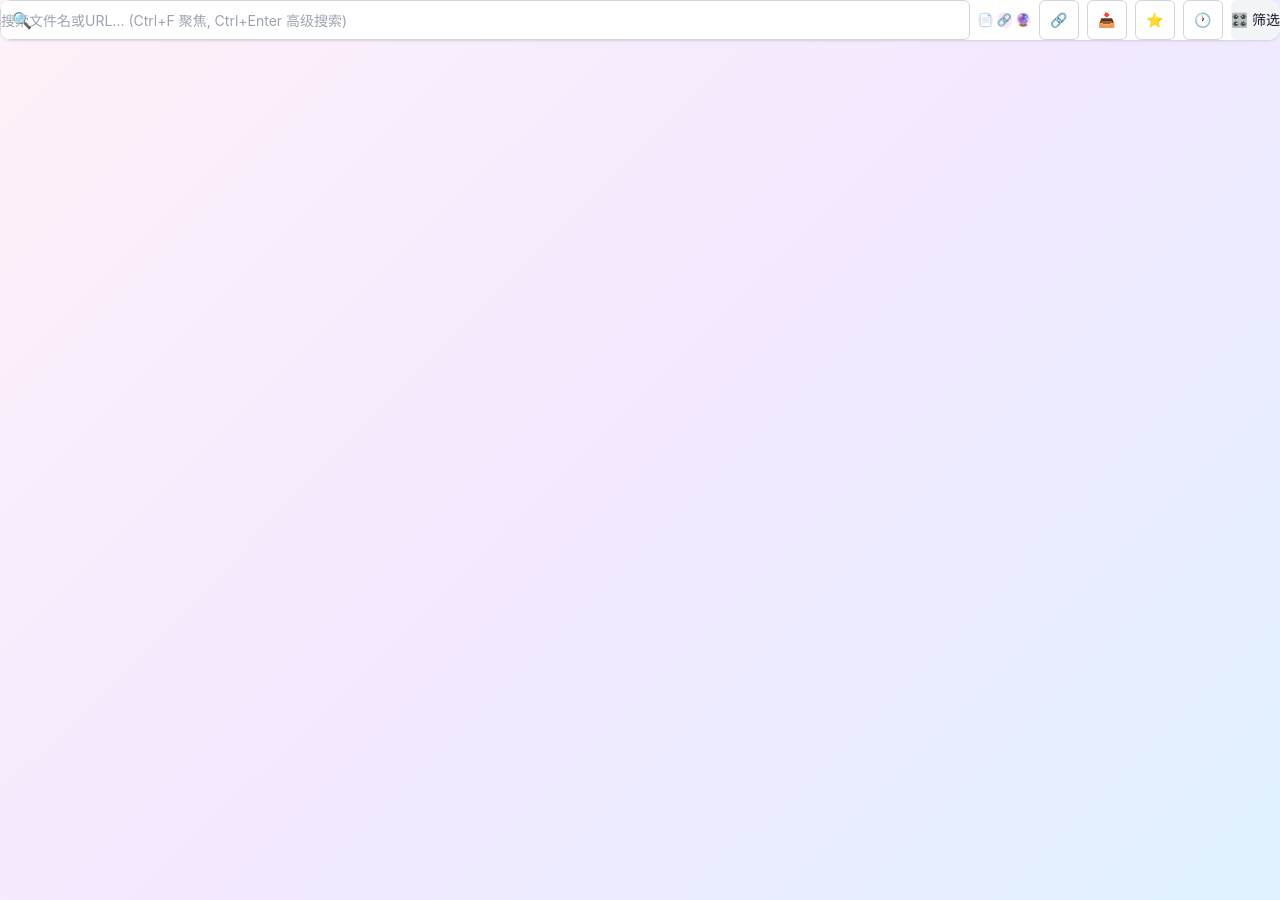
SearchFilter Component › should change category filter
The image size is (1280, 900).
What coordinates should you click on to do the following:
click the button "🎛️ 筛选"
I would click on:
 (1255, 20)
Its box is 1231,0 -> 1279,40.
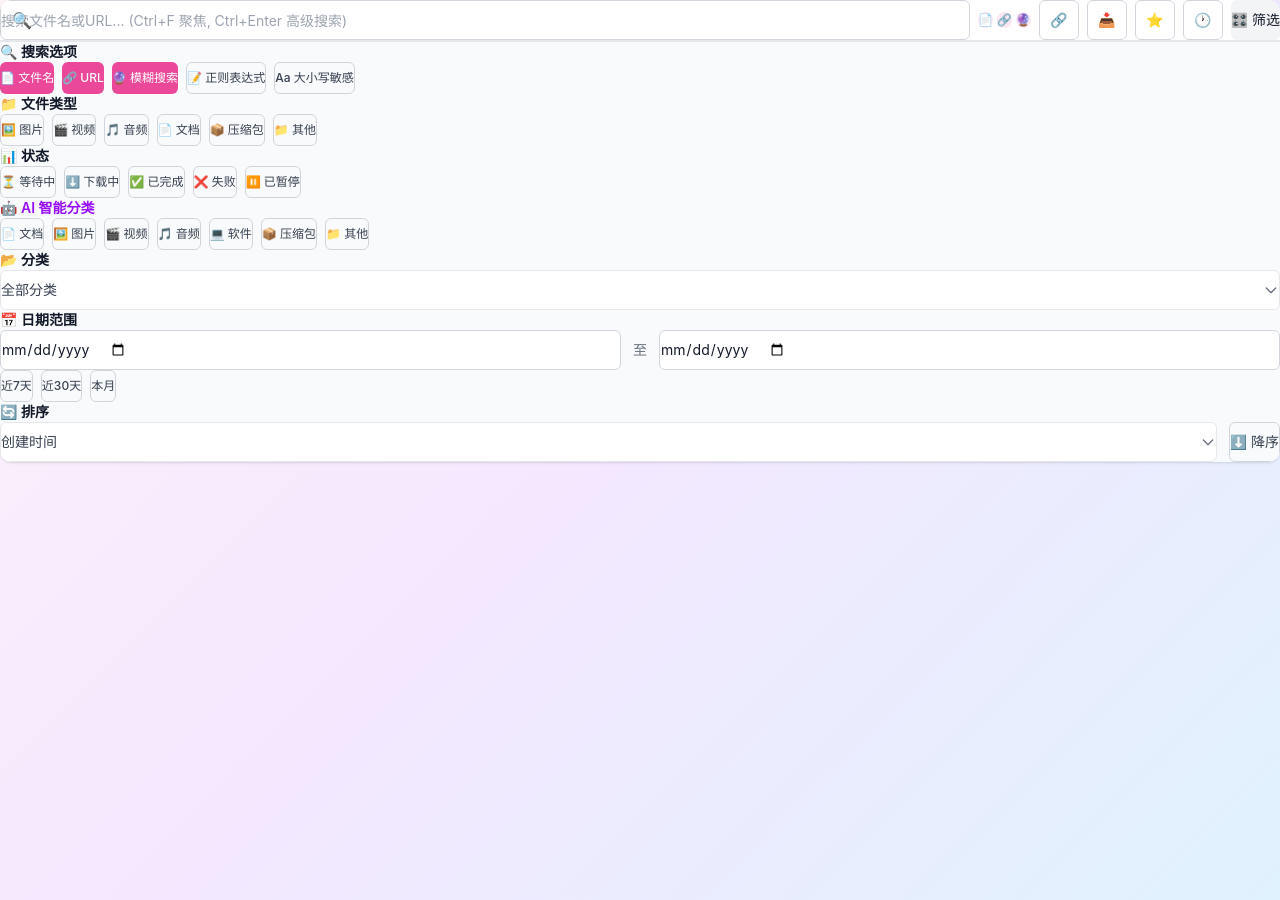
What coordinates should you click on to do the following:
click the dropdown labelled "全部分类"
I would click on:
 (29, 290)
Its box is 0,270 -> 1279,310.
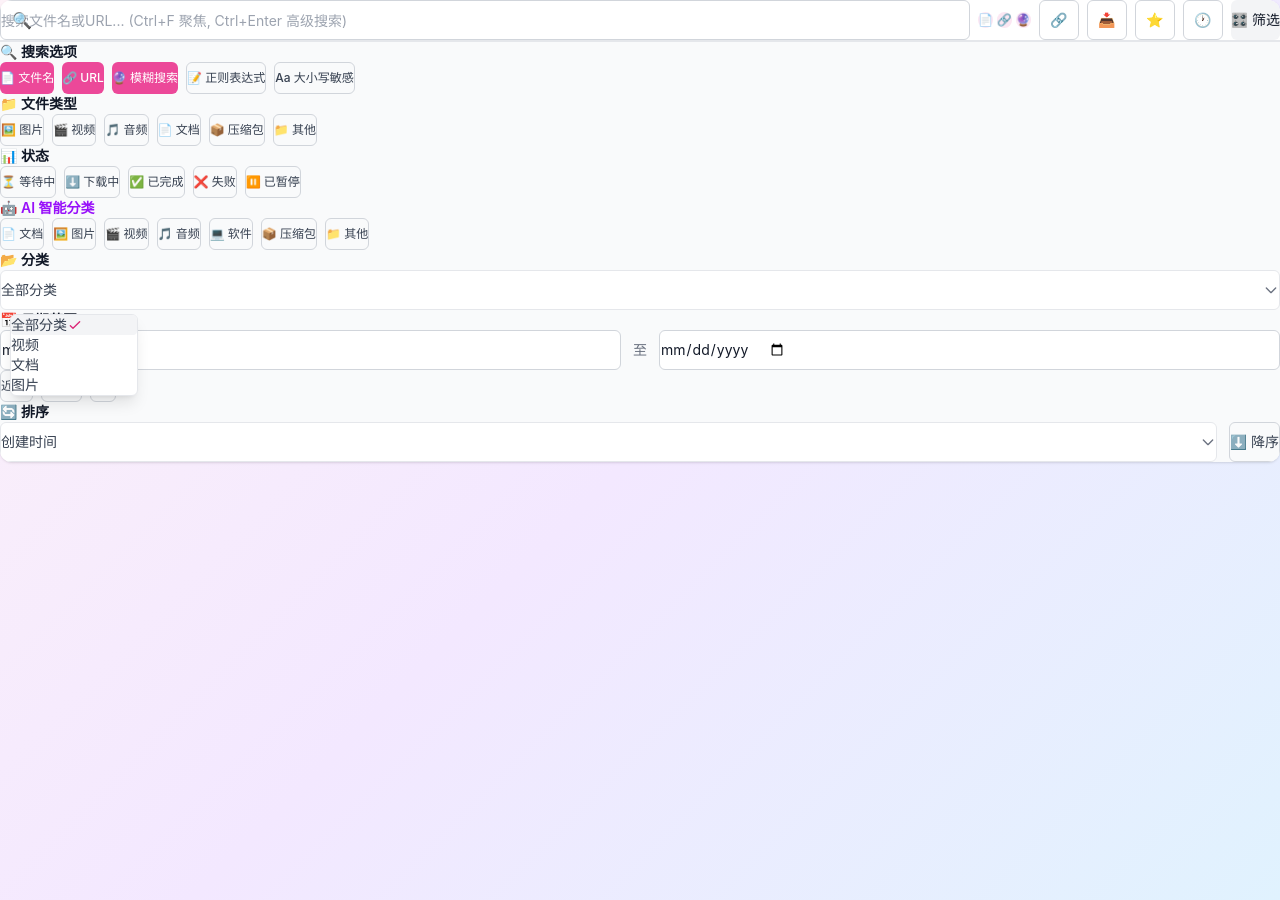
Expected: the text "视频" is shown, 11,335 -> 39,355
